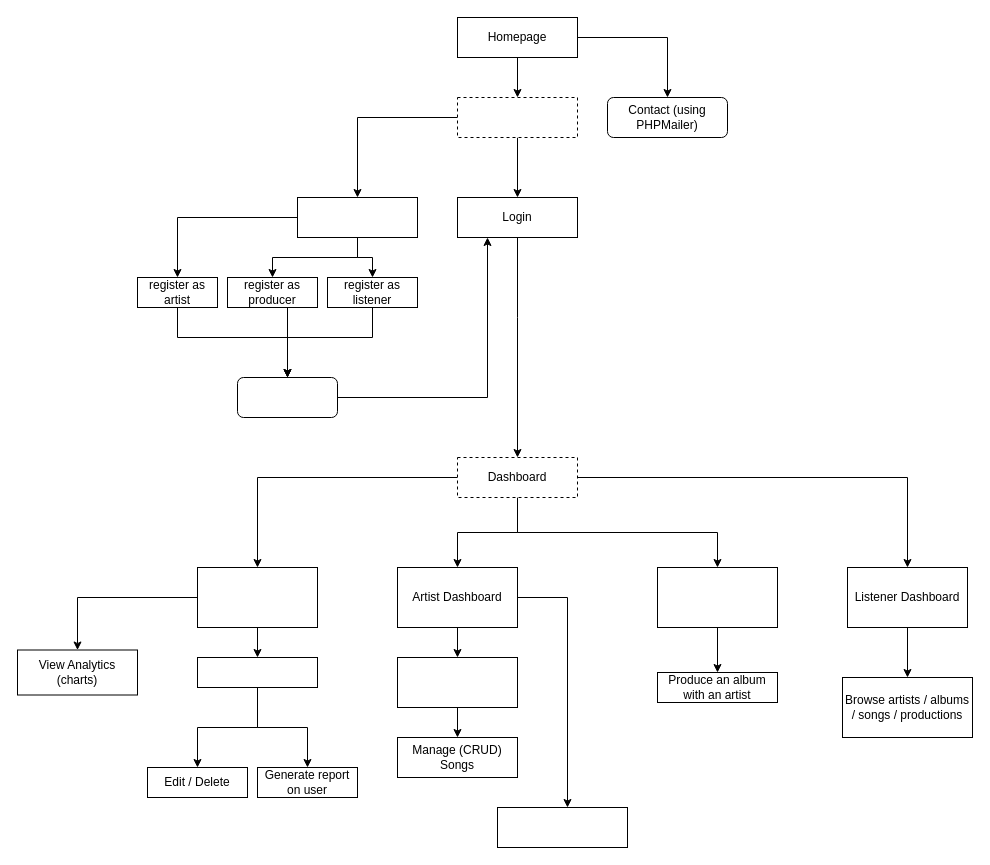
Image size: 990x865. Some labels were removed from this diagram. Each missing label, with the centre of its shape:
"Admin Dashboard" goes at pixel 257 597.
"Auth" goes at pixel 517 117.
"Manage (CRUD) Albums" goes at pixel 457 682.
"Manage (CRUD) Users" goes at pixel 257 672.
"Producer Dashboard" goes at pixel 717 597.
"Register" goes at pixel 357 217.
"Scrape wiikipedia for album info" goes at pixel 562 827.
"Succesful registration mail" goes at pixel 287 397.
